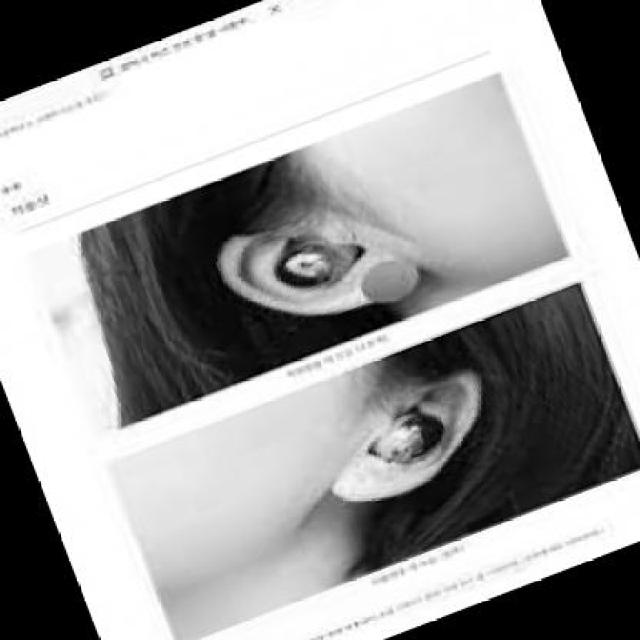earphone: (277, 237, 385, 298), (366, 401, 456, 470)
